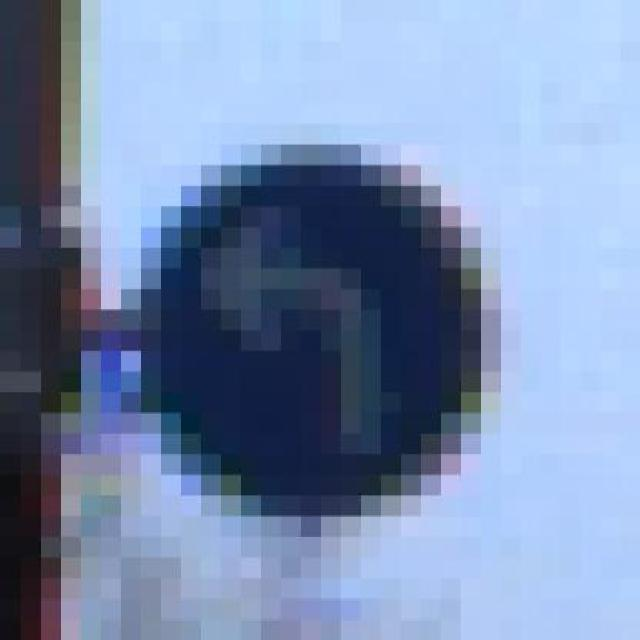Turn left ahead: (100, 103, 520, 537)
